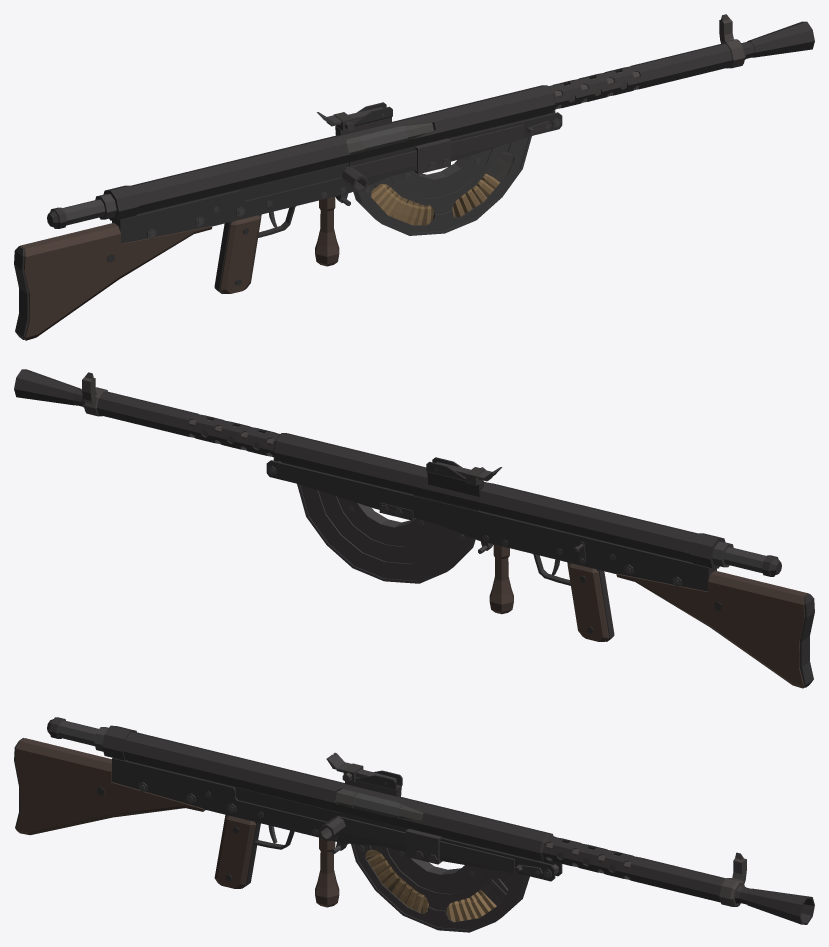
File: chauchat.glb
3 views of the same model, one above another, from view 1: azimuth 30°, elevation 25°; view 2: azimuth 150°, elevation 25°; view 3: azimuth 330°, elevation 25° (orthographic).
Parts seen in each view (by area): view 1: Object_22, Object_26, Object_19, Object_25, Object_23, Object_18, Object_21, Object_17, Object_20; view 2: Object_22, Object_26, Object_19, Object_21, Object_18; view 3: Object_22, Object_26, Object_19, Object_25, Object_23, Object_18, Object_21, Object_17, Object_20.
Part boxes in pixels (x1=…): Object_22: x1=14, y1=21, x2=814, y2=339; Object_26: x1=20, y1=196, x2=339, y2=340; Object_19: x1=62, y1=107, x2=560, y2=238; Object_25: x1=371, y1=173, x2=499, y2=225; Object_23: x1=342, y1=124, x2=524, y2=177; Object_18: x1=333, y1=112, x2=551, y2=202; Object_21: x1=486, y1=14, x2=745, y2=181; Object_17: x1=150, y1=121, x2=559, y2=236; Object_20: x1=346, y1=123, x2=433, y2=154; Object_22: x1=14, y1=369, x2=814, y2=687; Object_26: x1=489, y1=544, x2=808, y2=688; Object_19: x1=268, y1=461, x2=766, y2=586; Object_21: x1=82, y1=372, x2=273, y2=449; Object_18: x1=379, y1=467, x2=585, y2=564; Object_22: x1=14, y1=717, x2=814, y2=924; Object_26: x1=15, y1=738, x2=339, y2=907; Object_19: x1=58, y1=720, x2=558, y2=932; Object_25: x1=366, y1=850, x2=496, y2=921; Object_23: x1=335, y1=815, x2=514, y2=873; Object_18: x1=318, y1=763, x2=542, y2=877; Object_21: x1=481, y1=842, x2=746, y2=906; Object_17: x1=140, y1=785, x2=549, y2=876; Object_20: x1=335, y1=789, x2=423, y2=820.
Size of the model in its own units: 935 by 167 by 58.43.
